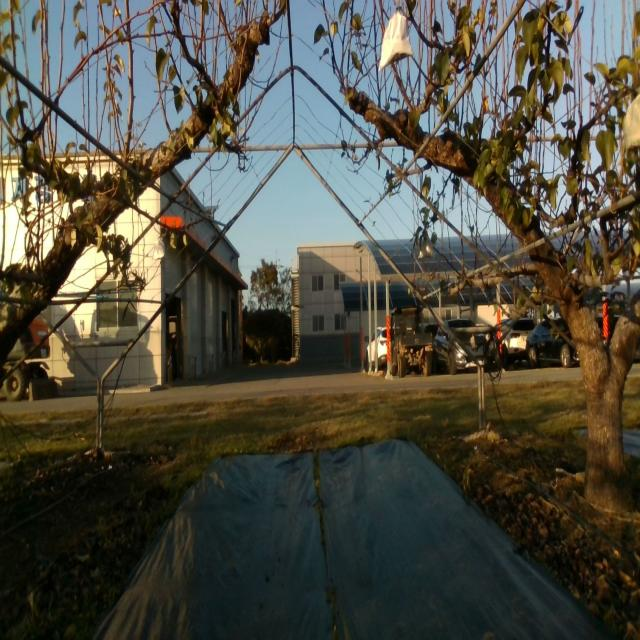pearbags: (378, 0, 415, 72), (623, 92, 640, 158), (418, 238, 436, 262), (152, 239, 165, 261)
